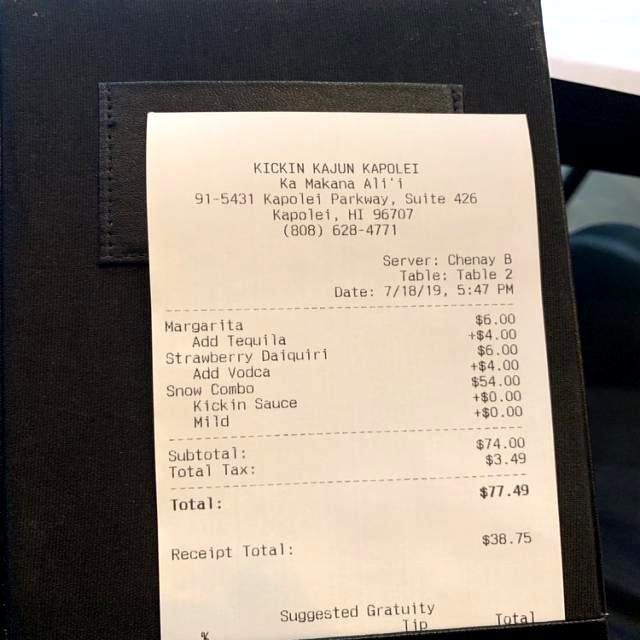Paper: (142, 108, 570, 640)
